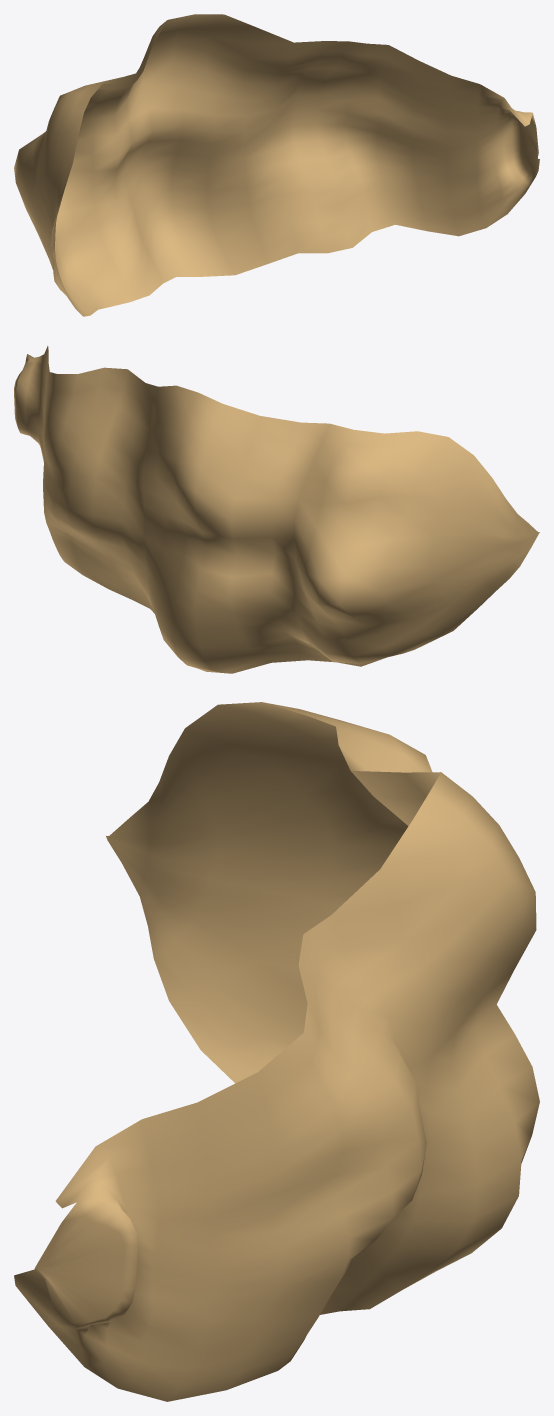
The model's file is thorax_lower.obj.
The picture shows the model from 3 angles, top to bottom: view 1: azimuth 30°, elevation 25°; view 2: azimuth 150°, elevation 25°; view 3: azimuth 270°, elevation 25°; orthographic projection. The views are drawn at different scales.
Bounding box in the file's own units: 0.1144 × 0.0597 × 0.0572.
